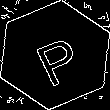P_NW: (25, 25, 85, 85)
